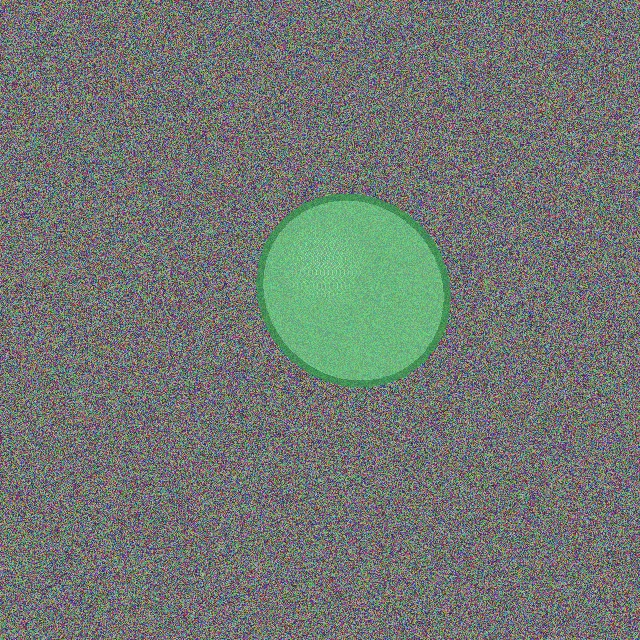lens: (259, 197, 447, 383)
